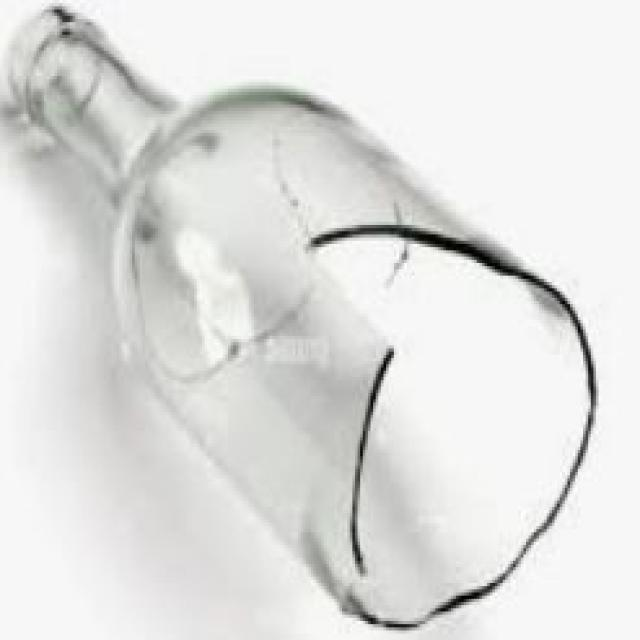electronic: (6, 6, 598, 635)
